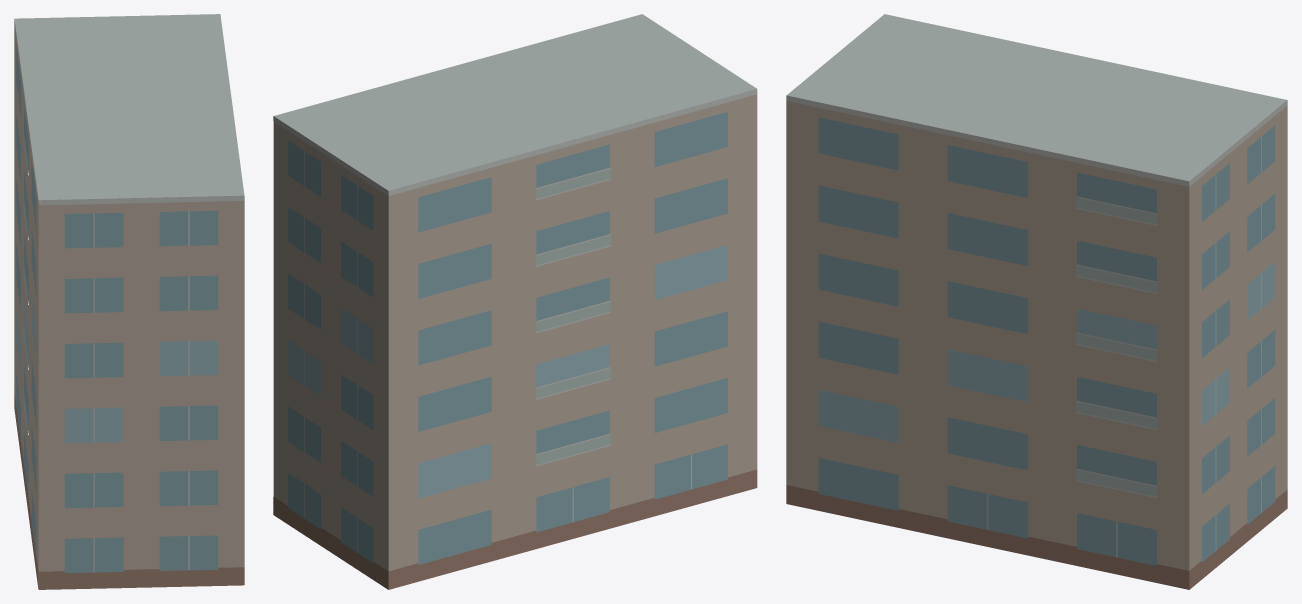
File: survey-upis-32550872.glb
3 views of the same model, side by side, from view 1: azimuth 30°, elevation 25°; view 2: azimuth 150°, elevation 25°; view 3: azimuth 270°, elevation 25° (orthographic). The views are drawn at different scales.
Visible parts, largest first — view 1: survey-upis-32550872.tmp; view 2: survey-upis-32550872.tmp; view 3: survey-upis-32550872.tmp.
Boxes of the visible parts, left/top/right/bottom form: survey-upis-32550872.tmp: left=14, top=14, right=244, bottom=589; survey-upis-32550872.tmp: left=273, top=14, right=757, bottom=589; survey-upis-32550872.tmp: left=786, top=14, right=1287, bottom=589.
Bounding box in the file's own units: 16.09 × 18.3 × 20.35.
